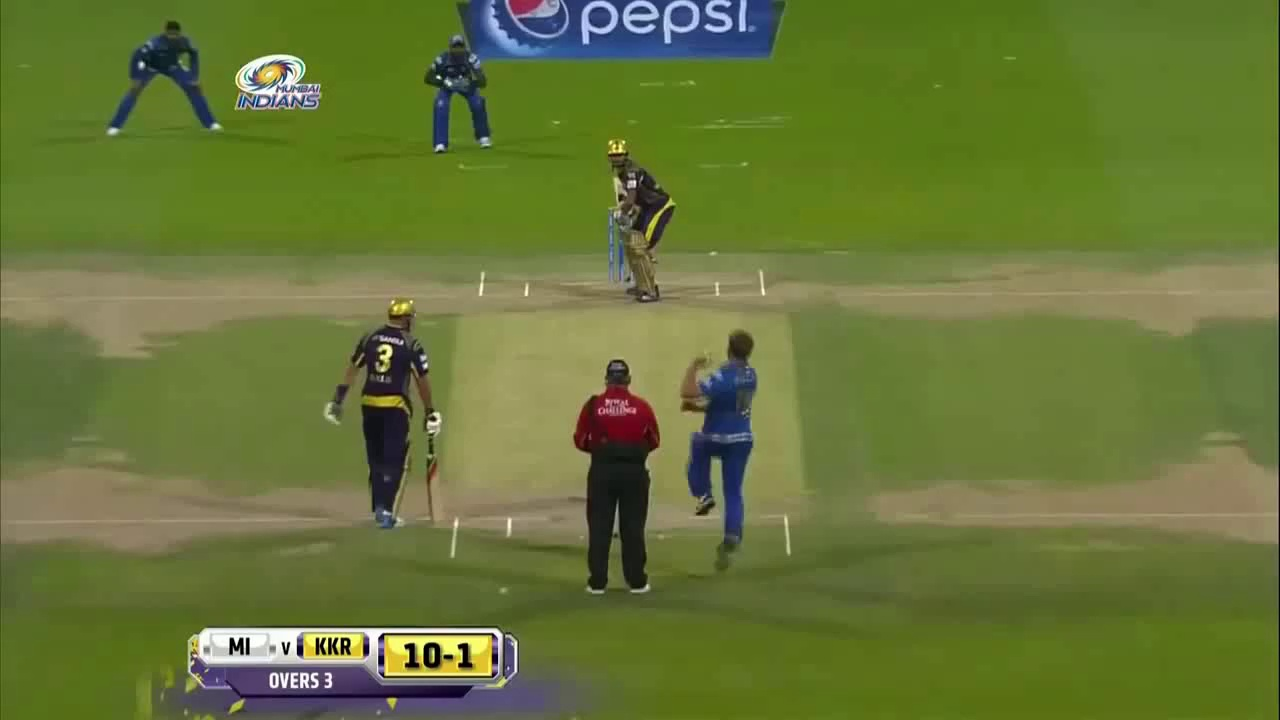bat: (423, 437, 447, 526)
